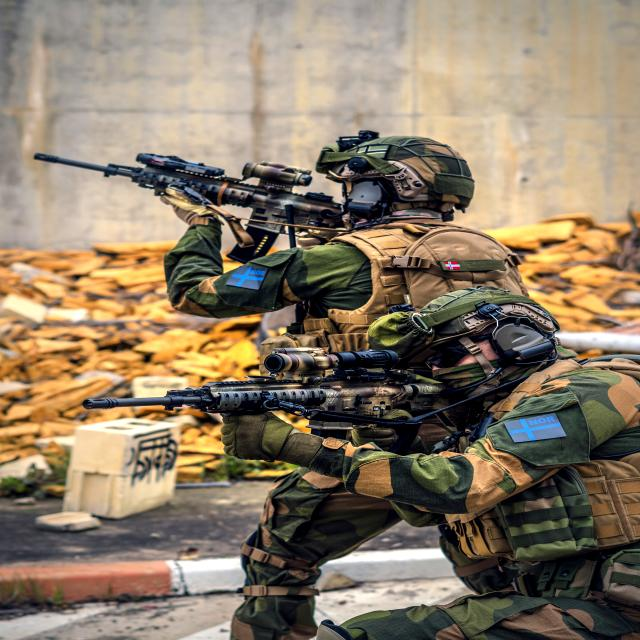rifle: (11, 132, 358, 272), (64, 339, 452, 442)
